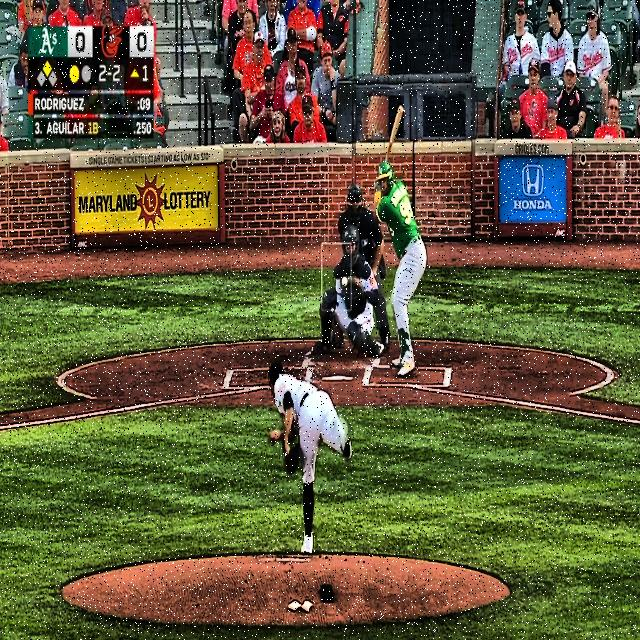baseball: (342, 276, 348, 287)
